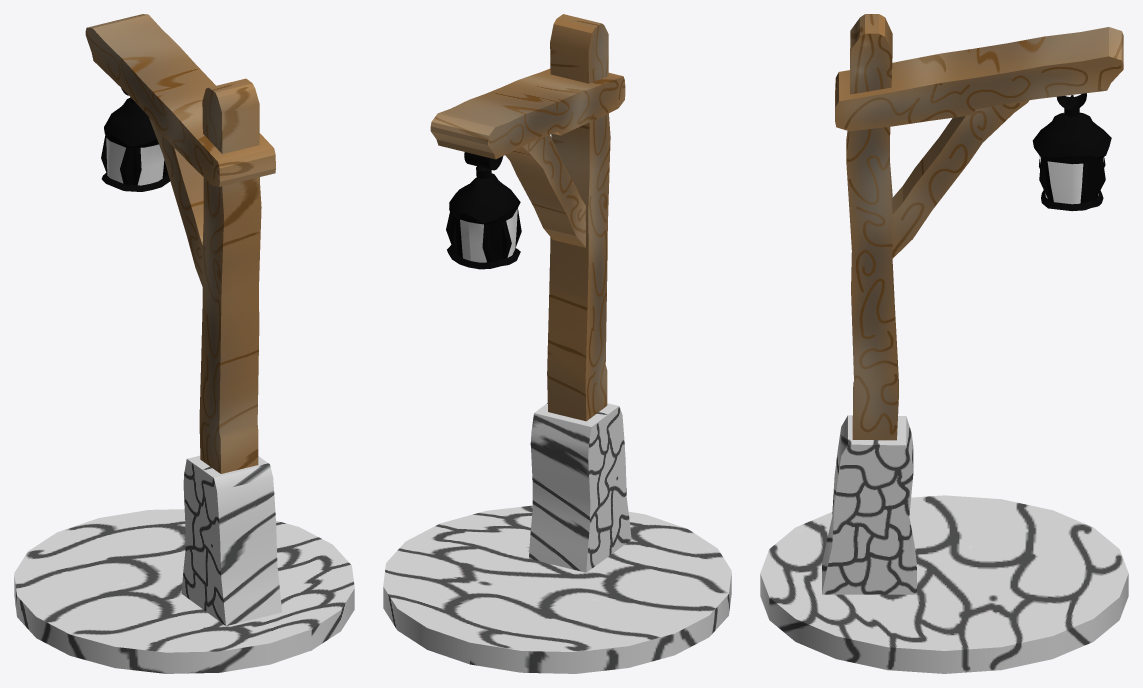
The model's file is LAMP POST (1).fbx.
3 renders of one model, left to right at view 1: azimuth 30°, elevation 25°; view 2: azimuth 150°, elevation 25°; view 3: azimuth 270°, elevation 25°, orthographic. The views are drawn at different scales.
Parts seen in each view (by area): view 1: pCylinder7; view 2: pCylinder7; view 3: pCylinder7.
Boxes of the visible parts, x1,y1,x2,y2 form: pCylinder7: (14,14,354,673); pCylinder7: (383,14,731,673); pCylinder7: (760,14,1128,673).
Bounding box in the file's own units: 5.28 × 9.16 × 5.28.
2 materials, 1 textured.
